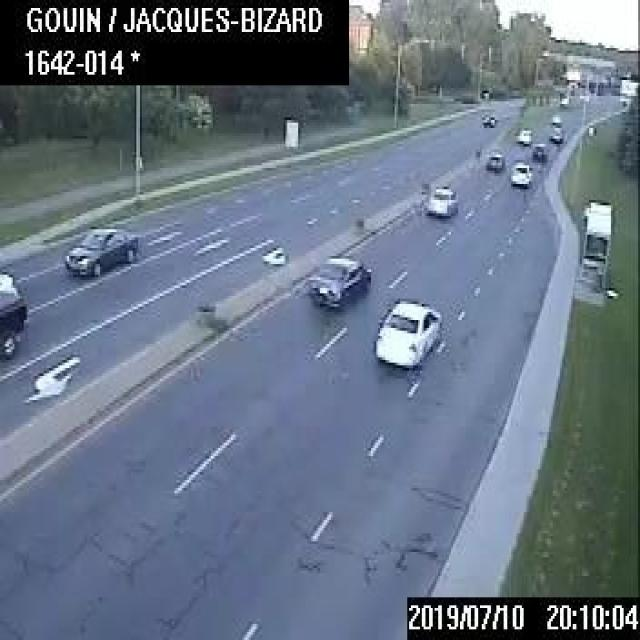vehicle: (374, 297, 439, 368), (64, 226, 136, 277), (305, 253, 369, 304), (0, 266, 25, 354), (424, 186, 456, 215), (509, 160, 531, 185), (546, 114, 562, 142), (483, 152, 504, 172), (530, 141, 547, 160), (514, 127, 530, 144), (479, 112, 494, 126)
